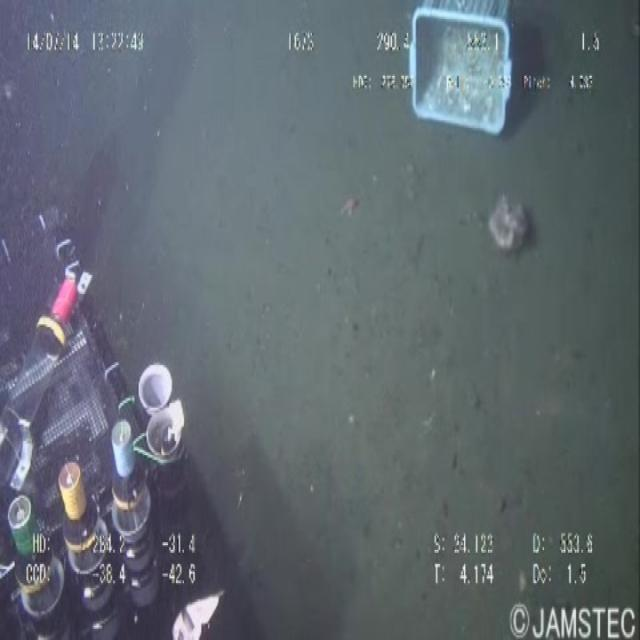Cutlery: (395, 2, 524, 142)
